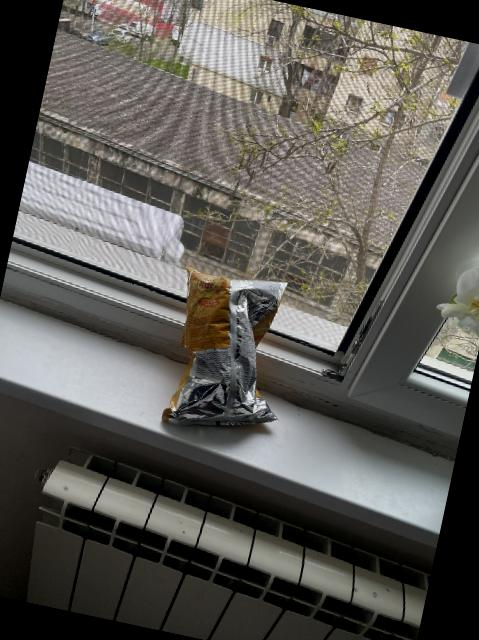Chio Hula Hoops Cheese 70g: (154, 261, 307, 444)
